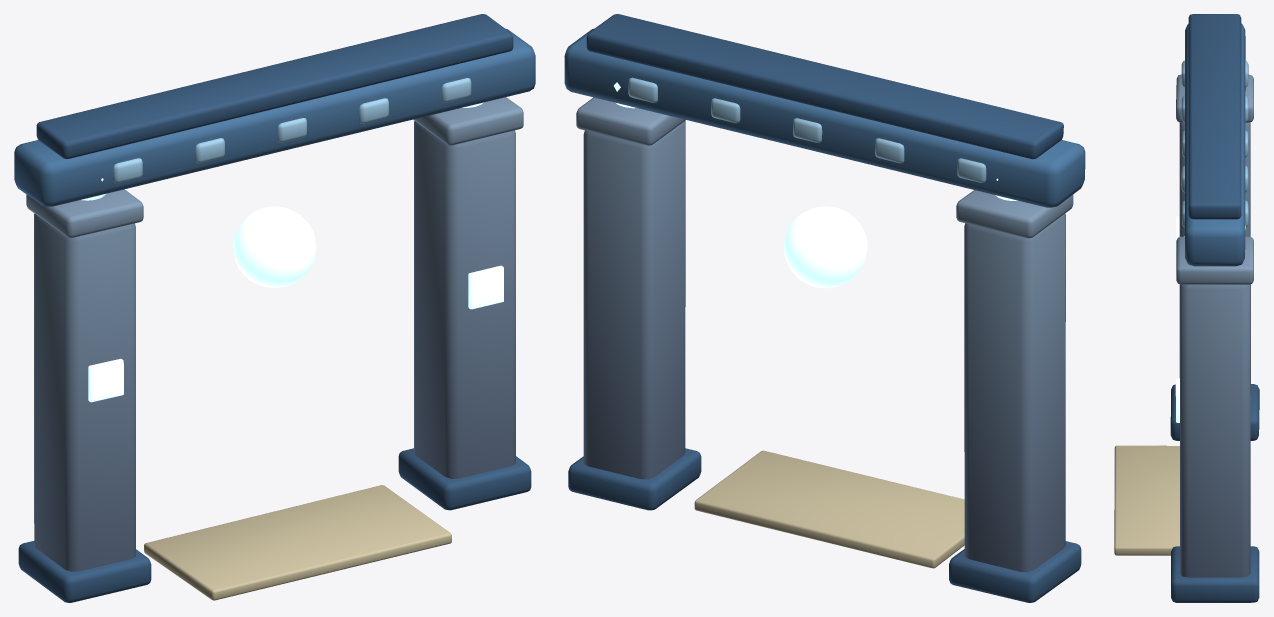
3 renders of one model, left to right at view 1: azimuth 30°, elevation 25°; view 2: azimuth 150°, elevation 25°; view 3: azimuth 270°, elevation 25°, orthographic. The views are drawn at different scales.
Parts seen in each view (by area): view 1: gate_0a0787be; view 2: gate_0a0787be; view 3: gate_0a0787be.
Boxes of the visible parts, bbox=[...] form: gate_0a0787be: bbox=[14, 14, 535, 602]; gate_0a0787be: bbox=[564, 14, 1085, 602]; gate_0a0787be: bbox=[1114, 14, 1259, 602].
Bounding box in the file's own units: 4.95 × 4.34 × 1.44.
